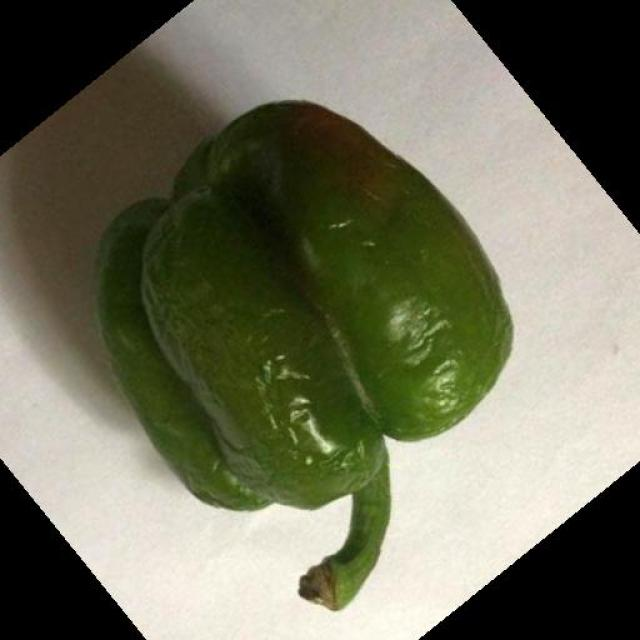Stale_Capsicum: (100, 102, 515, 485)
